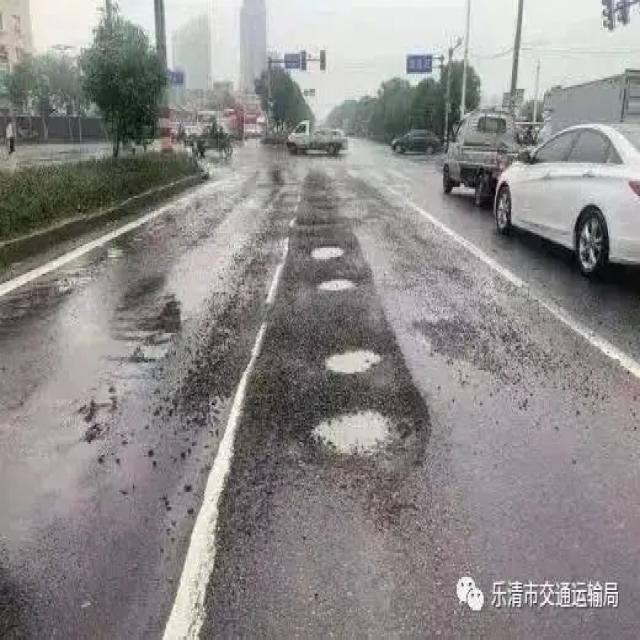Pothole: (309, 403, 404, 459), (324, 336, 380, 374), (306, 238, 348, 264), (319, 268, 357, 294), (310, 200, 335, 211)
